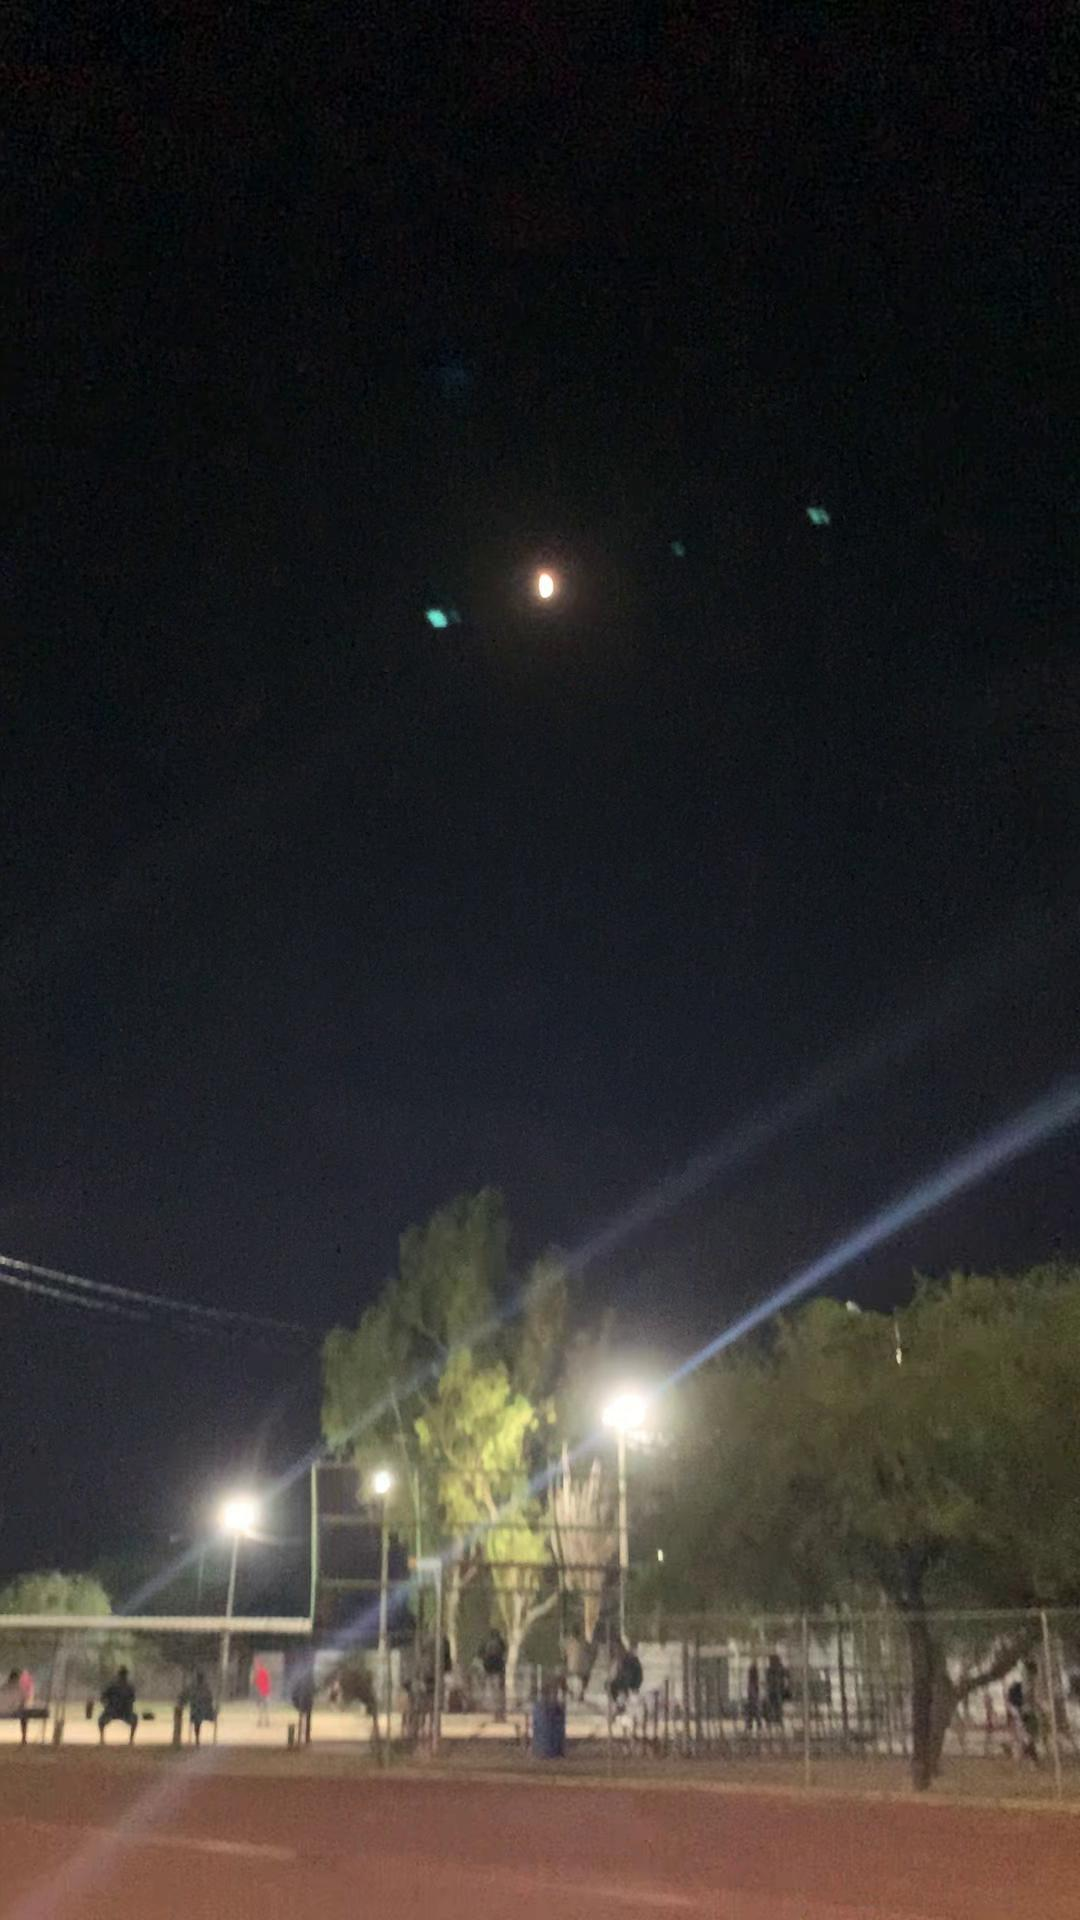moon: (514, 551, 583, 617)
